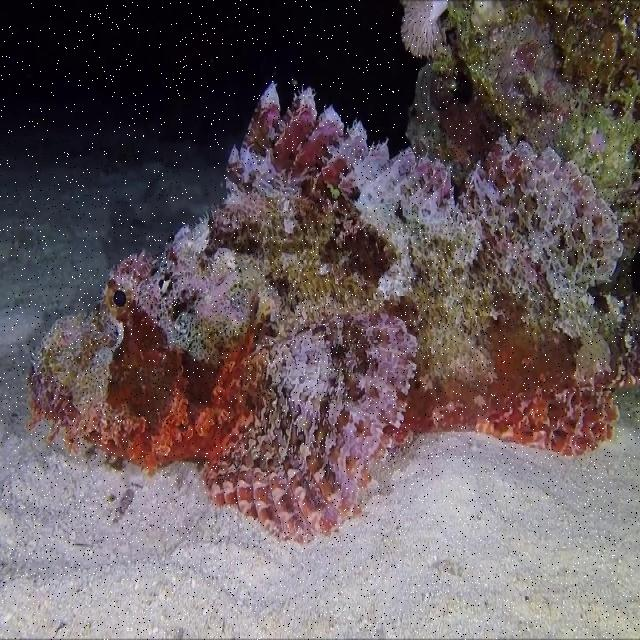fish: (26, 81, 639, 542)
